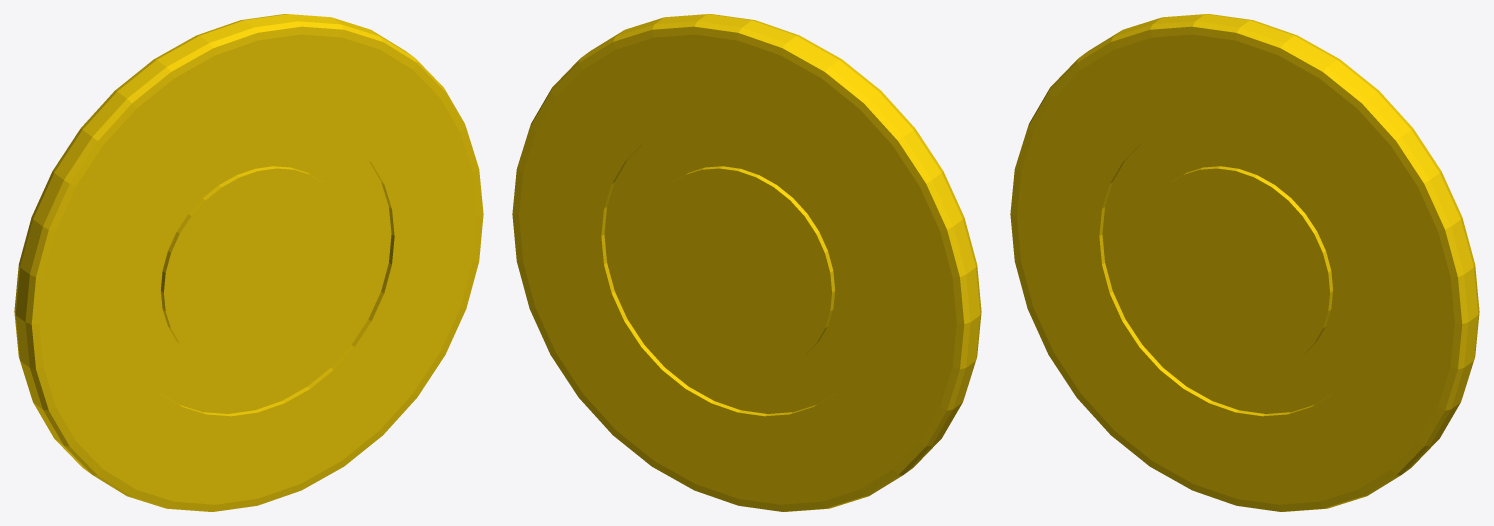
The model's file is Coin.fbx.
The picture shows the model from 3 angles, left to right: view 1: azimuth 30°, elevation 25°; view 2: azimuth 150°, elevation 25°; view 3: azimuth 330°, elevation 25°; orthographic projection.
Parts seen in each view (by area): view 1: Coin; view 2: Coin; view 3: Coin.
Part boxes in pixels (x1,y1,x2,y2): Coin: (14, 14, 483, 511); Coin: (512, 14, 981, 511); Coin: (1010, 14, 1479, 511).
Bounding box in the file's own units: 39.3 × 39.3 × 2.71.
